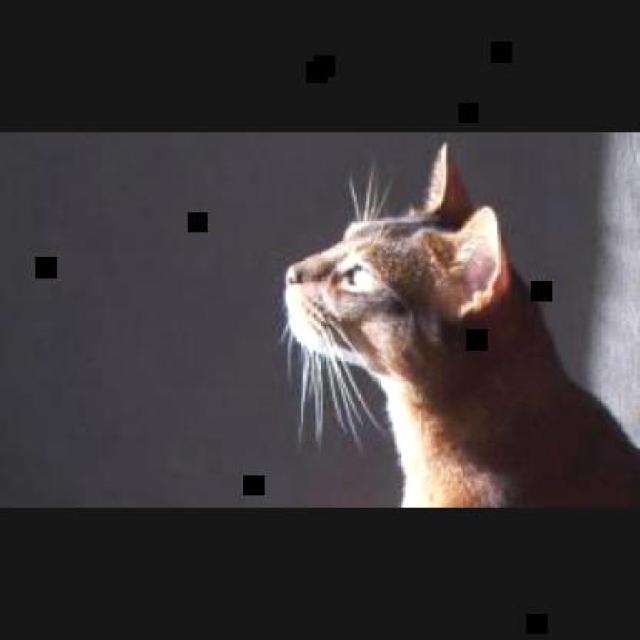unauthorized: (277, 140, 638, 509)
